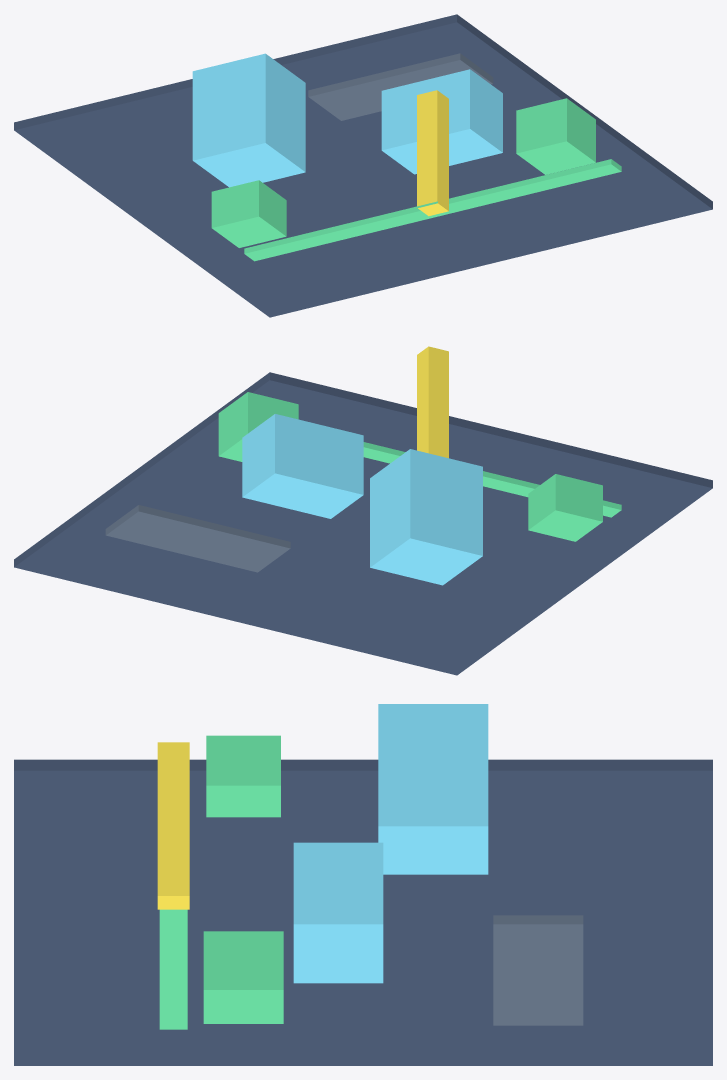
File: business-district.glb
3 renders of one model, top to bottom at view 1: azimuth 30°, elevation 25°; view 2: azimuth 150°, elevation 25°; view 3: azimuth 270°, elevation 25°, orthographic. The views are drawn at different scales.
Parts seen in each view (by area): view 1: environment floor, main structure, secondary structure, route layer, context block b, environment plane, context block a, observation marker; view 2: environment floor, main structure, secondary structure, environment plane, context block a, observation marker, context block b, route layer; view 3: environment floor, main structure, secondary structure, environment plane, context block b, context block a, observation marker, route layer.
Part boxes in pixels (left/top/right/bottom): environment floor: left=14, top=14, right=712, bottom=317; main structure: left=192, top=53, right=305, bottom=187; secondary structure: left=381, top=69, right=502, bottom=174; route layer: left=244, top=159, right=621, bottom=261; context block b: left=516, top=98, right=595, bottom=174; environment plane: left=308, top=53, right=493, bottom=120; context block a: left=211, top=180, right=286, bottom=247; observation marker: left=417, top=90, right=448, bottom=216; environment floor: left=14, top=372, right=712, bottom=675; main structure: left=370, top=449, right=482, bottom=585; secondary structure: left=242, top=414, right=363, bottom=518; environment plane: left=105, top=505, right=290, bottom=572; context block a: left=528, top=474, right=602, bottom=541; observation marker: left=417, top=346, right=448, bottom=458; context block b: left=218, top=392, right=298, bottom=461; route layer: left=363, top=442, right=621, bottom=517; environment floor: left=14, top=759, right=712, bottom=1065; main structure: left=378, top=704, right=488, bottom=874; secondary structure: left=293, top=842, right=383, bottom=983; environment plane: left=493, top=915, right=583, bottom=1025; context block b: left=203, top=931, right=283, bottom=1023; context block a: left=206, top=735, right=280, bottom=817; observation marker: left=157, top=742, right=189, bottom=909; route layer: left=159, top=909, right=187, bottom=1029.
Bounding box in the file's own units: 7 × 1.87 × 7.
